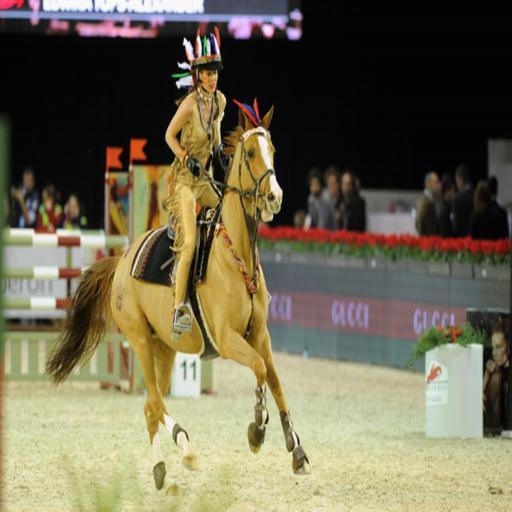horse: (46, 101, 310, 495)
